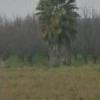Tree: (34, 2, 82, 50)
